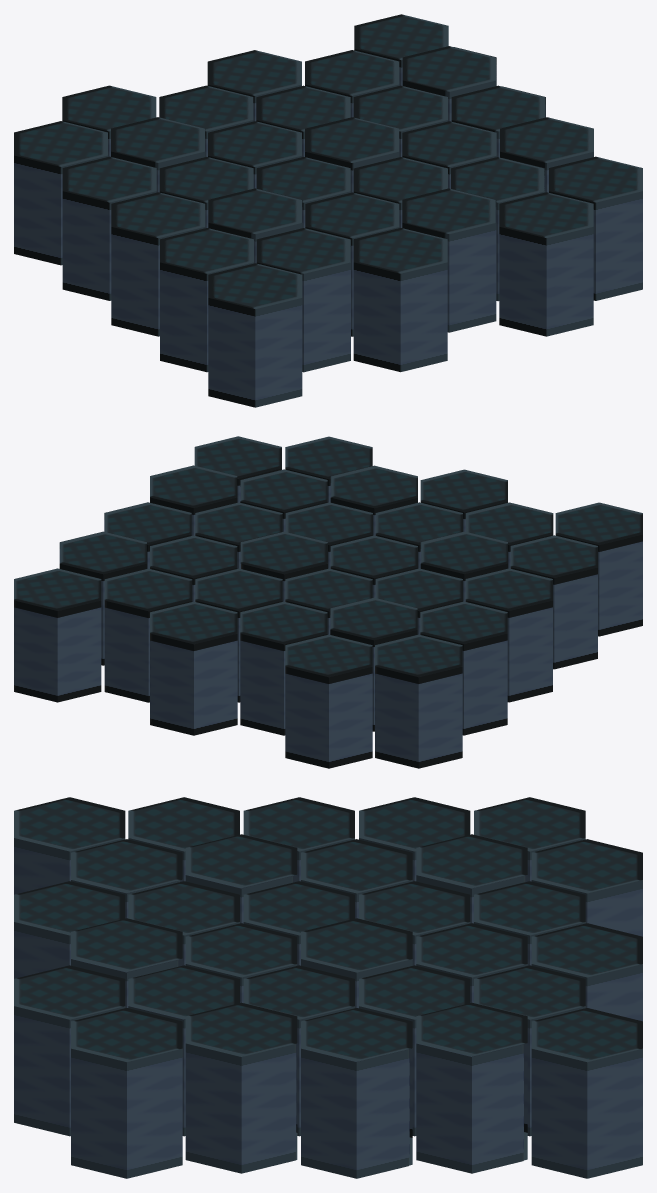
The model's file is general1.fbx.
The picture shows the model from 3 angles, top to bottom: view 1: azimuth 30°, elevation 25°; view 2: azimuth 150°, elevation 25°; view 3: azimuth 270°, elevation 25°; orthographic projection. The views are drawn at different scales.
Parts seen in each view (by area): view 1: pCylinder33, pCylinder42, pCylinder40, pCylinder7, pCylinder25, pCylinder15, pCylinder13, pCylinder17, pCylinder29, pCylinder12, pCylinder22, pCylinder27 (+18 smaller); view 2: pCylinder24, pCylinder26, pCylinder31, pCylinder29, pCylinder19, pCylinder13, pCylinder25, pCylinder28, pCylinder12, pCylinder42, pCylinder22, pCylinder27 (+18 smaller); view 3: pCylinder8, pCylinder31, pCylinder14, pCylinder15, pCylinder22, pCylinder33, pCylinder24, pCylinder26, pCylinder42, pCylinder40, pCylinder11, pCylinder6 (+18 smaller).
Boxes of the visible parts, bbox=[...] form: pCylinder33: bbox=[499, 192, 593, 336]; pCylinder42: bbox=[208, 263, 302, 407]; pCylinder40: bbox=[353, 228, 447, 372]; pCylinder7: bbox=[402, 188, 496, 332]; pCylinder25: bbox=[62, 156, 156, 300]; pCylinder15: bbox=[549, 156, 642, 300]; pCylinder13: bbox=[111, 192, 205, 336]; pCylinder17: bbox=[256, 228, 350, 372]; pCylinder29: bbox=[14, 121, 107, 265]; pCylinder12: bbox=[160, 228, 253, 372]; pCylinder22: bbox=[402, 46, 496, 121]; pCylinder27: bbox=[111, 117, 205, 192]; pCylinder24: bbox=[150, 601, 237, 735]; pCylinder26: bbox=[285, 634, 372, 768]; pCylinder31: bbox=[14, 568, 101, 702]; pCylinder29: bbox=[375, 634, 462, 768]; pCylinder19: bbox=[104, 568, 192, 702]; pCylinder13: bbox=[465, 568, 552, 702]; pCylinder25: bbox=[420, 601, 507, 735]; pCylinder28: bbox=[240, 601, 327, 735]; pCylinder12: bbox=[510, 535, 597, 669]; pCylinder42: bbox=[555, 502, 642, 636]; pCylinder22: bbox=[59, 531, 146, 665]; pCylinder27: bbox=[330, 597, 417, 731]; pCylinder8: bbox=[185, 1002, 297, 1173]; pCylinder31: bbox=[531, 1008, 642, 1178]; pCylinder14: bbox=[301, 1008, 412, 1178]; pCylinder15: bbox=[71, 1008, 182, 1178]; pCylinder22: bbox=[416, 1002, 527, 1173]; pCylinder33: bbox=[14, 965, 125, 1136]; pCylinder24: bbox=[531, 923, 642, 1021]; pCylinder26: bbox=[531, 839, 642, 936]; pCylinder42: bbox=[14, 797, 125, 894]; pCylinder40: bbox=[14, 881, 125, 978]; pCylinder11: bbox=[185, 834, 297, 923]; pCylinder6: bbox=[301, 918, 412, 1008].
Size of the model in its own units: 9.75 by 2.08 by 9.78.
Materials: 1 (1 with a texture image).
